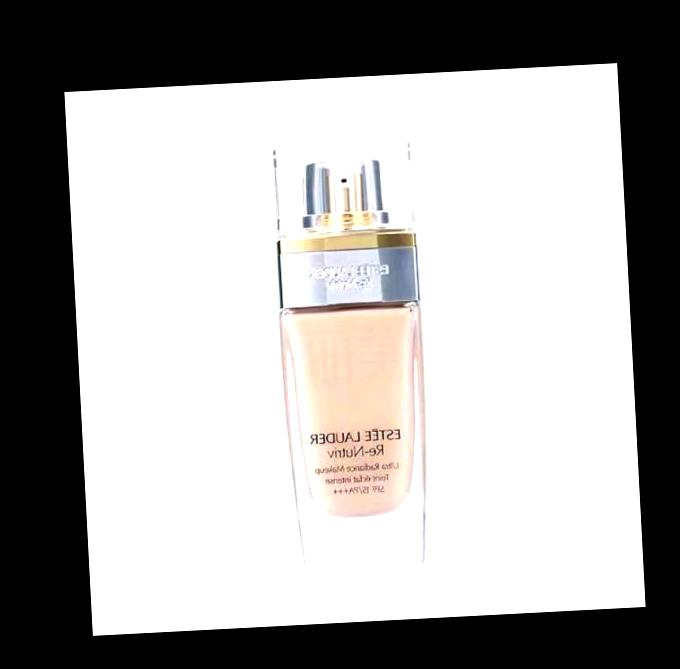cosmetic: (274, 141, 433, 572)
